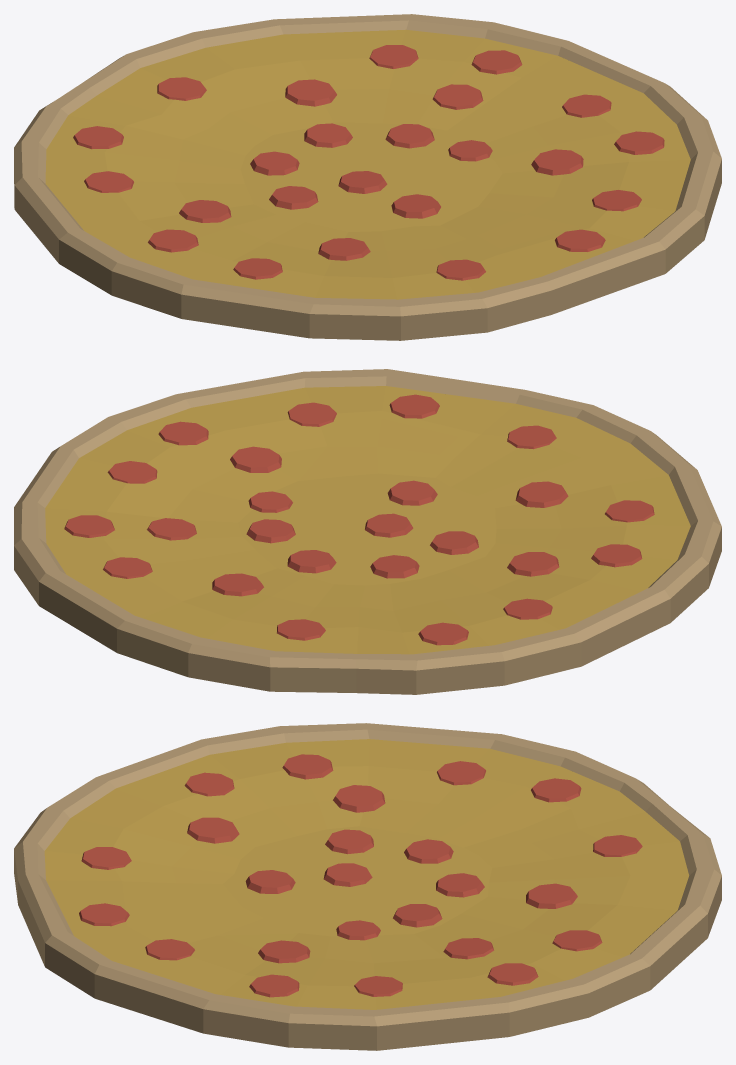
The model's file is Pizza.glb.
The picture shows the model from 3 angles, top to bottom: view 1: azimuth 30°, elevation 25°; view 2: azimuth 150°, elevation 25°; view 3: azimuth 270°, elevation 25°; orthographic projection.
Parts seen in each view (by area): view 1: Pizza; view 2: Pizza; view 3: Pizza.
Part boxes in pixels (x1=…): Pizza: x1=14, y1=14, x2=721, y2=340; Pizza: x1=14, y1=369, x2=721, y2=694; Pizza: x1=14, y1=723, x2=721, y2=1050.
Bounding box in the file's own units: 3.37 × 0.1609 × 3.36.
